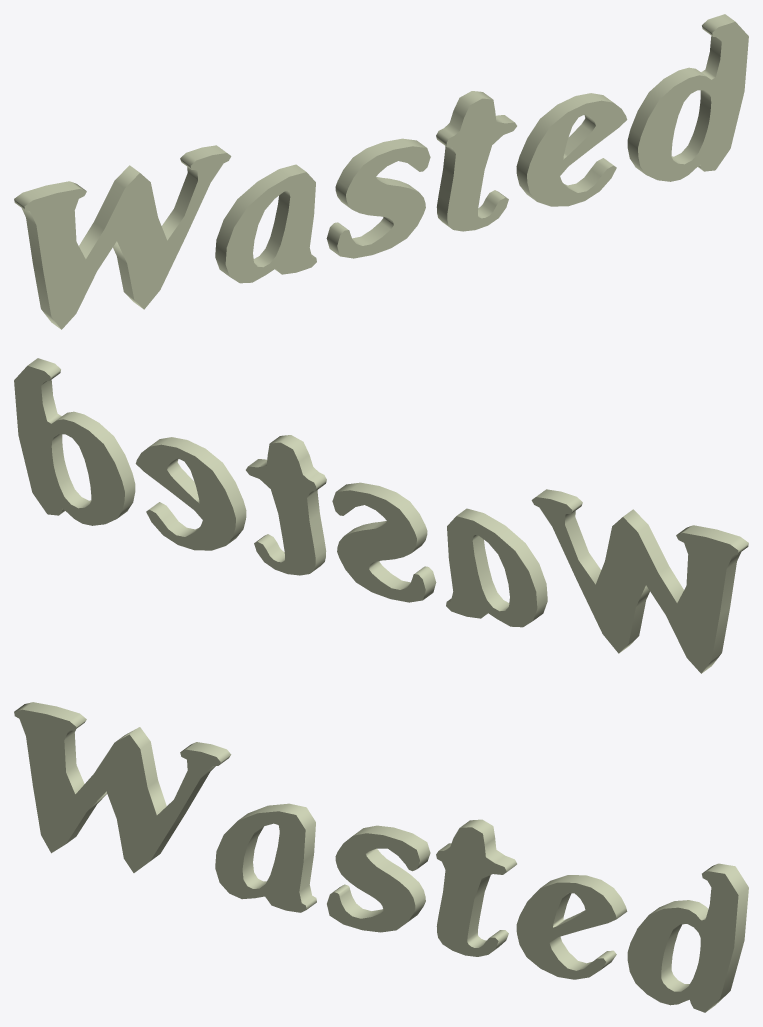
Rendered from wasted.dae.
3 renders of one model, top to bottom at view 1: azimuth 30°, elevation 25°; view 2: azimuth 150°, elevation 25°; view 3: azimuth 330°, elevation 25°, orthographic.
Parts seen in each view (by area): view 1: text4-0; view 2: text4-0; view 3: text4-0.
Part boxes in pixels (x1,y1,x2,y2): text4-0: (14,14,748,329); text4-0: (14,358,748,673); text4-0: (14,702,748,1012).
Size of the model in its own units: 8.01 by 1.53 by 0.2.
